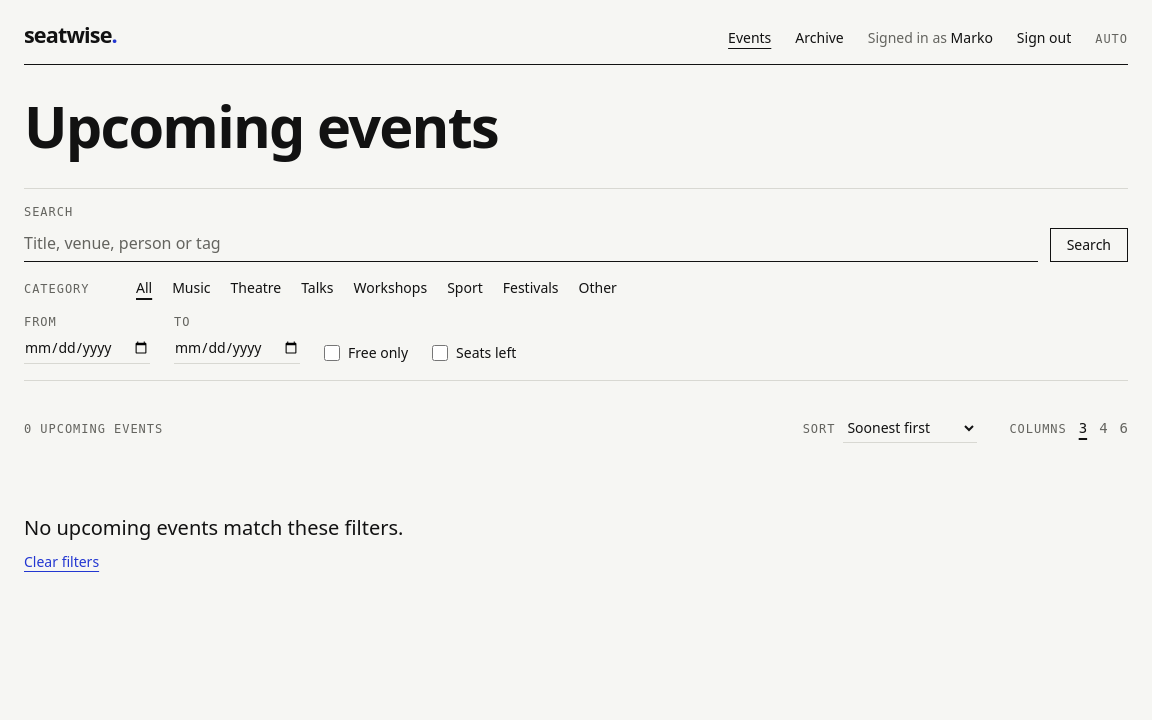
it: user menu › signs out on the server and here
The image size is (1152, 720).
Click the button "Sign out".
click(1044, 38)  # box [1017,28,1071,48]
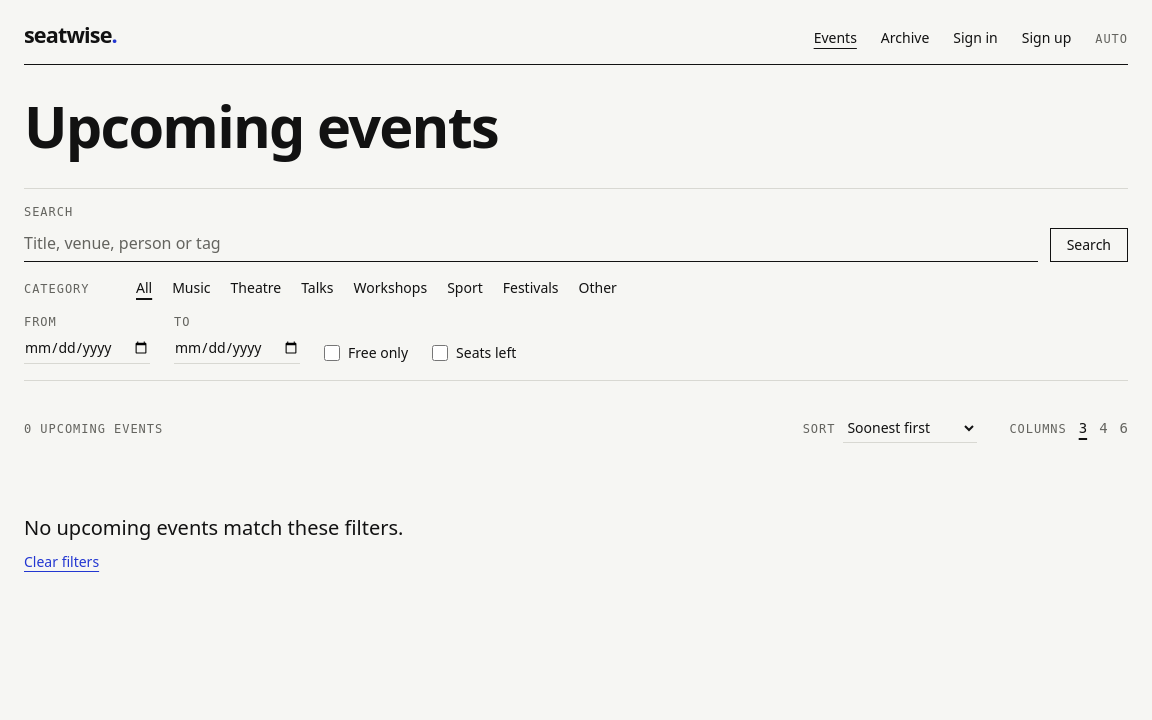
Now the link "Sign in" is shown, box [953,28,998,48]
